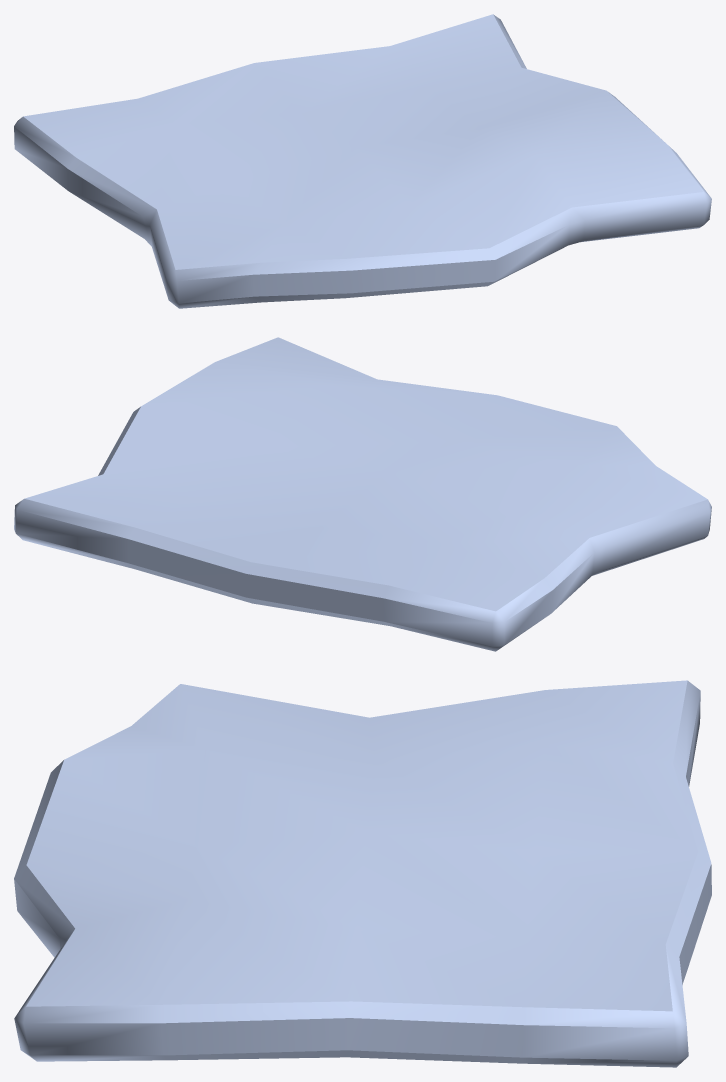
The model's file is floe_ind_7.fbx.
3 renders of one model, top to bottom at view 1: azimuth 30°, elevation 25°; view 2: azimuth 150°, elevation 25°; view 3: azimuth 270°, elevation 25°, orthographic. The views are drawn at different scales.
Visible parts, largest first — view 1: Plane.013; view 2: Plane.013; view 3: Plane.013.
Boxes of the visible parts, x1,y1,x2,y2 form: Plane.013: (14,14,711,308); Plane.013: (14,337,711,651); Plane.013: (14,680,711,1067).
Size of the model in its own units: 373 by 46.07 by 315.
